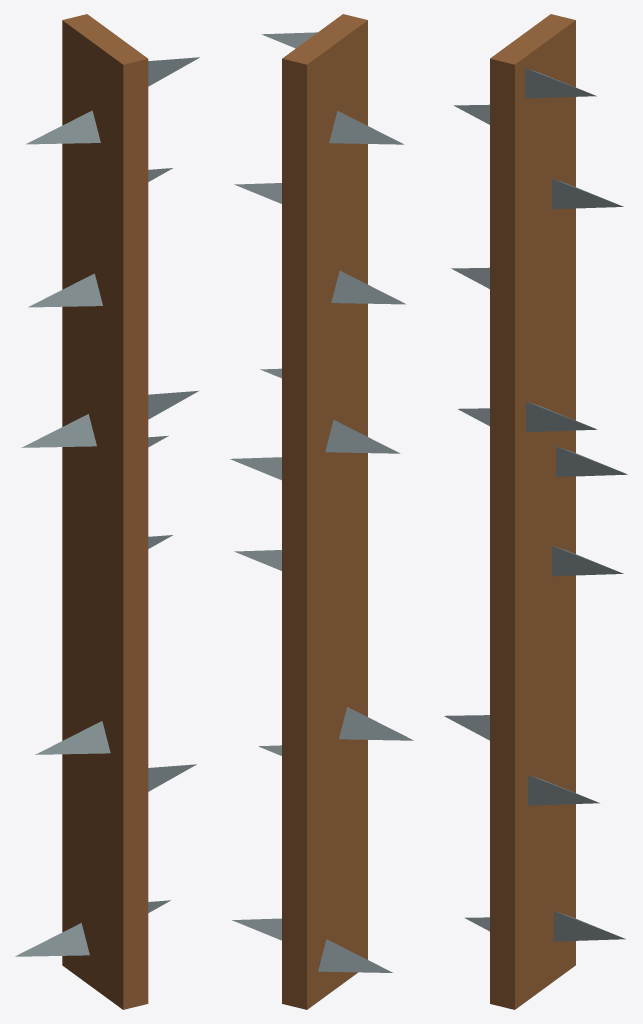
Rendered from S Plank.fbx.
3 renders of one model, left to right at view 1: azimuth 30°, elevation 25°; view 2: azimuth 150°, elevation 25°; view 3: azimuth 330°, elevation 25°, orthographic.
Visible parts, largest first — view 1: Spiked Plank; view 2: Spiked Plank; view 3: Spiked Plank.
Part boxes in pixels (x1,y1,x2,y2): Spiked Plank: [15, 14, 199, 1009]; Spiked Plank: [230, 14, 413, 1009]; Spiked Plank: [444, 14, 627, 1009].
Bounding box in the file's own units: 47.43 × 268 × 31.37.
